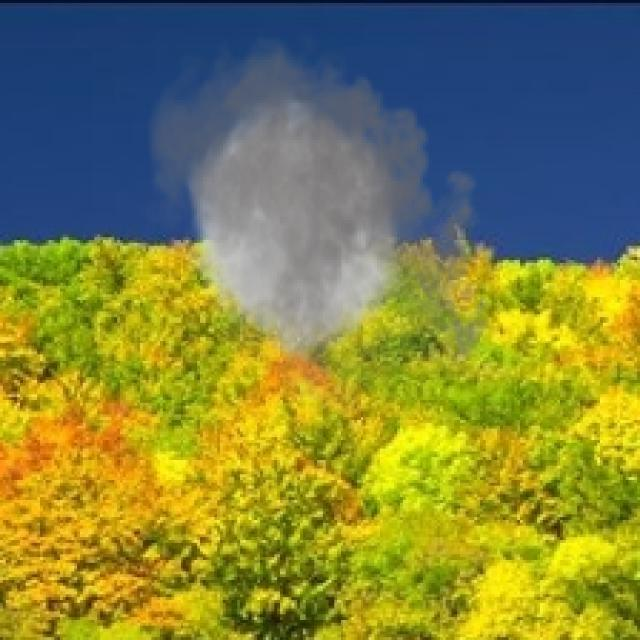smoke: (134, 23, 500, 428)
